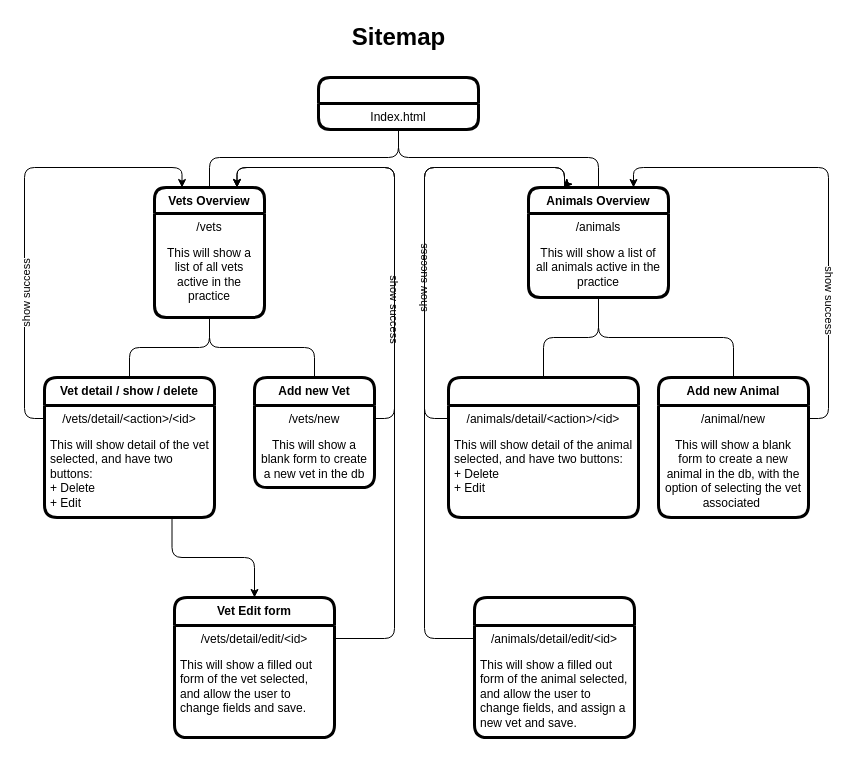
Image size: 854x757. Some labels were removed from this diagram. Each missing label, with the box of its shape:
Animal detail / show / delete: (446, 376, 640, 518)
Anmial Edit form: (472, 596, 636, 738)
Home: (316, 76, 480, 130)
